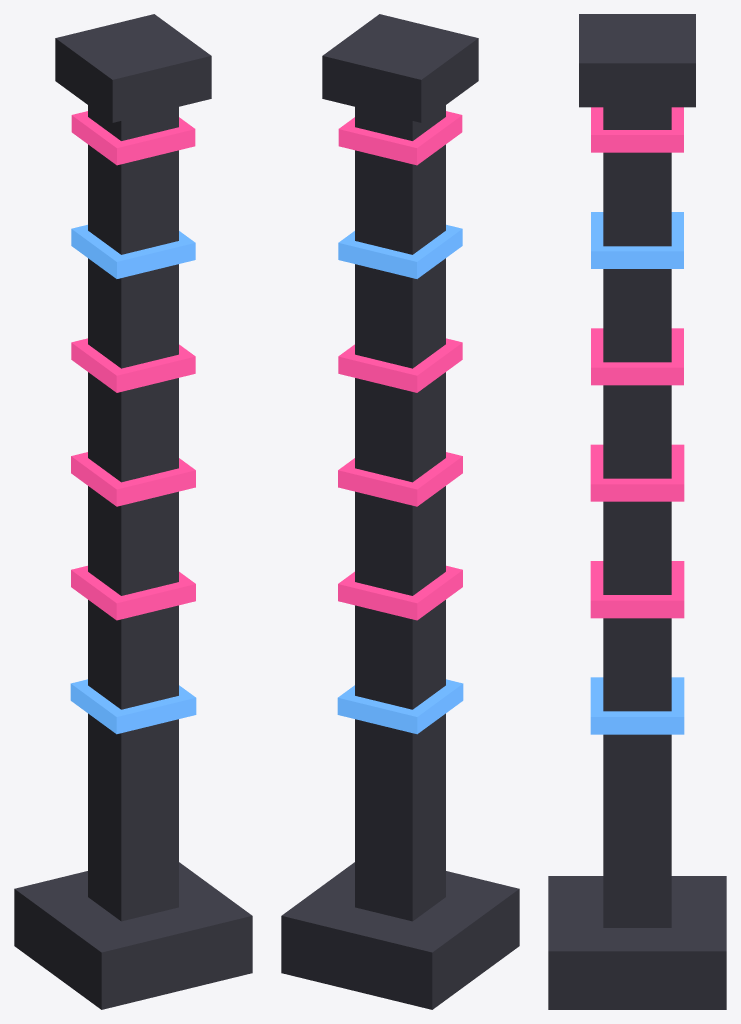
Rendered from runtime.glb.
3 views of the same model, side by side, from view 1: azimuth 30°, elevation 25°; view 2: azimuth 150°, elevation 25°; view 3: azimuth 270°, elevation 25° (orthographic). The views are drawn at different scales.
Parts seen in each view (by area): view 1: neon_pylon_post_nocol, neon_pylon_band_red_noshadow_nocol, neon_pylon_band_blue_noshadow_nocol; view 2: neon_pylon_post_nocol, neon_pylon_band_red_noshadow_nocol, neon_pylon_band_blue_noshadow_nocol; view 3: neon_pylon_post_nocol, neon_pylon_band_red_noshadow_nocol, neon_pylon_band_blue_noshadow_nocol.
Boxes of the visible parts, x1,y1,x2,y2 form: neon_pylon_post_nocol: (14,14,252,1009); neon_pylon_band_red_noshadow_nocol: (71,111,195,620); neon_pylon_band_blue_noshadow_nocol: (70,224,196,734); neon_pylon_post_nocol: (281,14,519,1009); neon_pylon_band_red_noshadow_nocol: (338,111,462,620); neon_pylon_band_blue_noshadow_nocol: (337,224,463,734); neon_pylon_post_nocol: (548,14,726,1009); neon_pylon_band_red_noshadow_nocol: (590,107,684,618); neon_pylon_band_blue_noshadow_nocol: (590,212,684,734).
Size of the model in its own units: 1.1 by 6.36 by 1.1.
